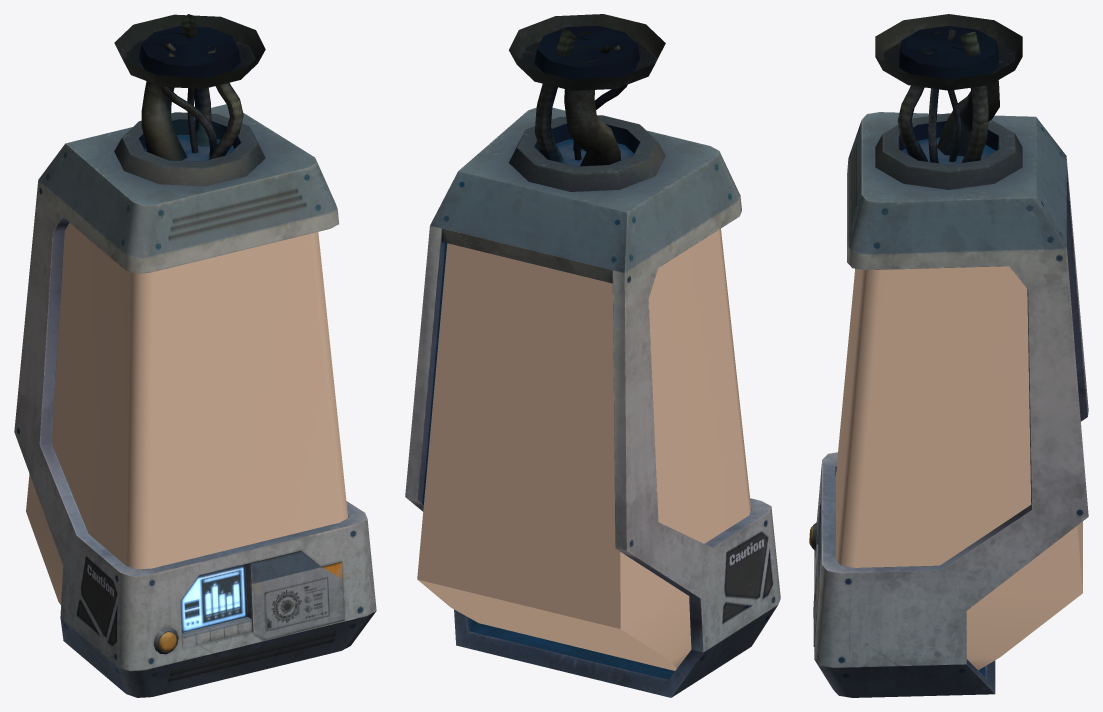
The model's file is SM0030_Scifi_Incubator_01.fbx.
3 views of the same model, side by side, from view 1: azimuth 30°, elevation 25°; view 2: azimuth 150°, elevation 25°; view 3: azimuth 270°, elevation 25° (orthographic). The views are drawn at different scales.
Parts seen in each view (by area): view 1: SM0030_Scifi_Incubator_01; view 2: SM0030_Scifi_Incubator_01; view 3: SM0030_Scifi_Incubator_01.
Boxes of the visible parts, box(x1,y1,x2,y2) form: SM0030_Scifi_Incubator_01: box(14, 14, 376, 697); SM0030_Scifi_Incubator_01: box(405, 14, 780, 697); SM0030_Scifi_Incubator_01: box(809, 14, 1088, 697).
Size of the model in its own units: 282 by 263 by 640.
